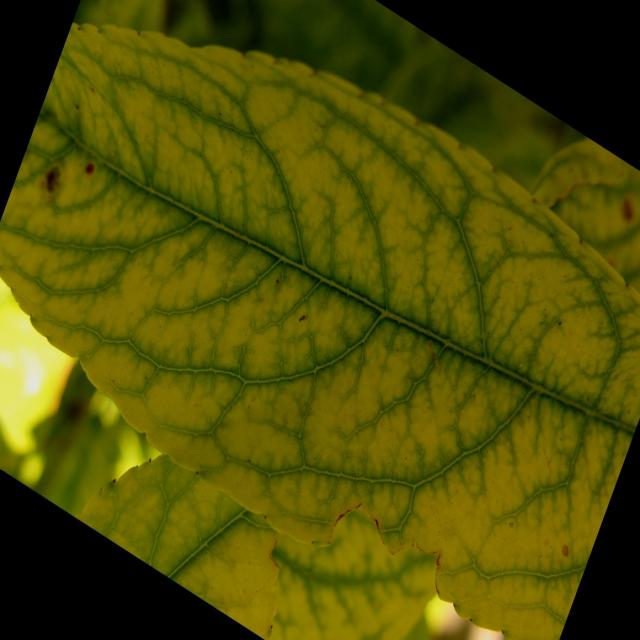Chlorosis: (13, 50, 626, 610)
